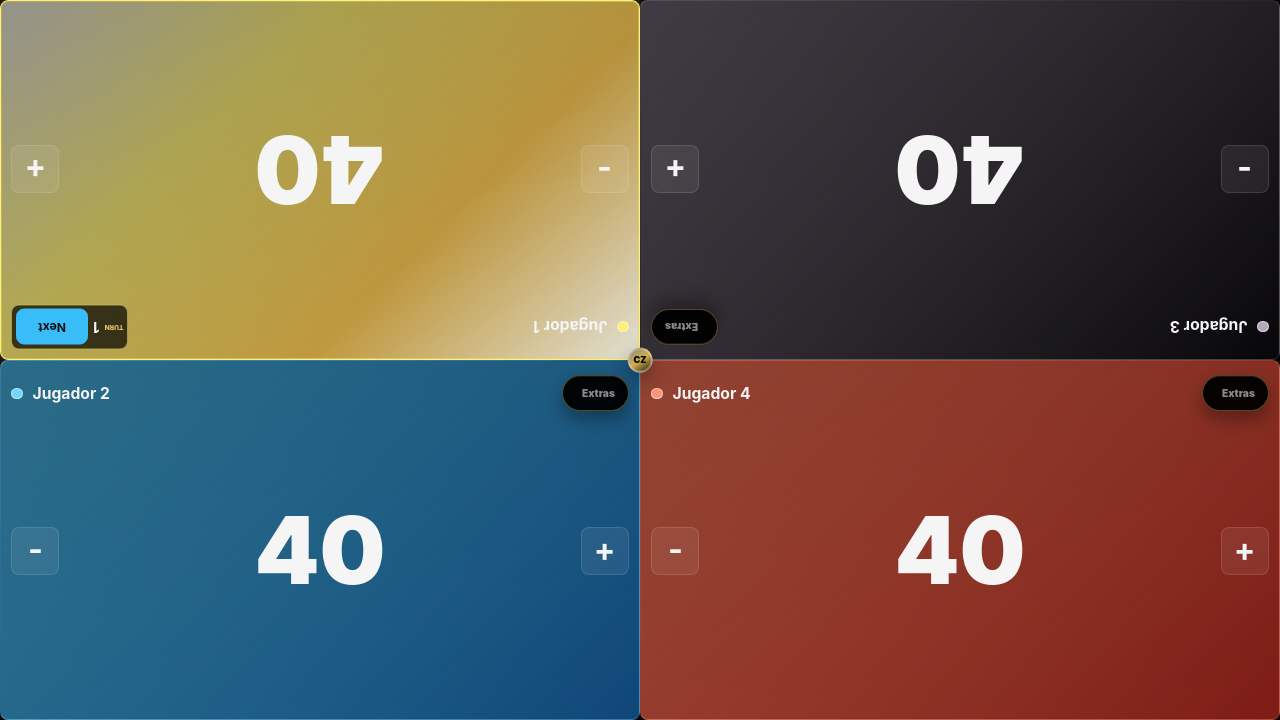
Scenario: TableAssistantRoomComponent › opens replay setup from the centered menu without closing the room
Step 1. Click the button with class "table-logo-button" → (640, 360), box 628,348 -> 652,372
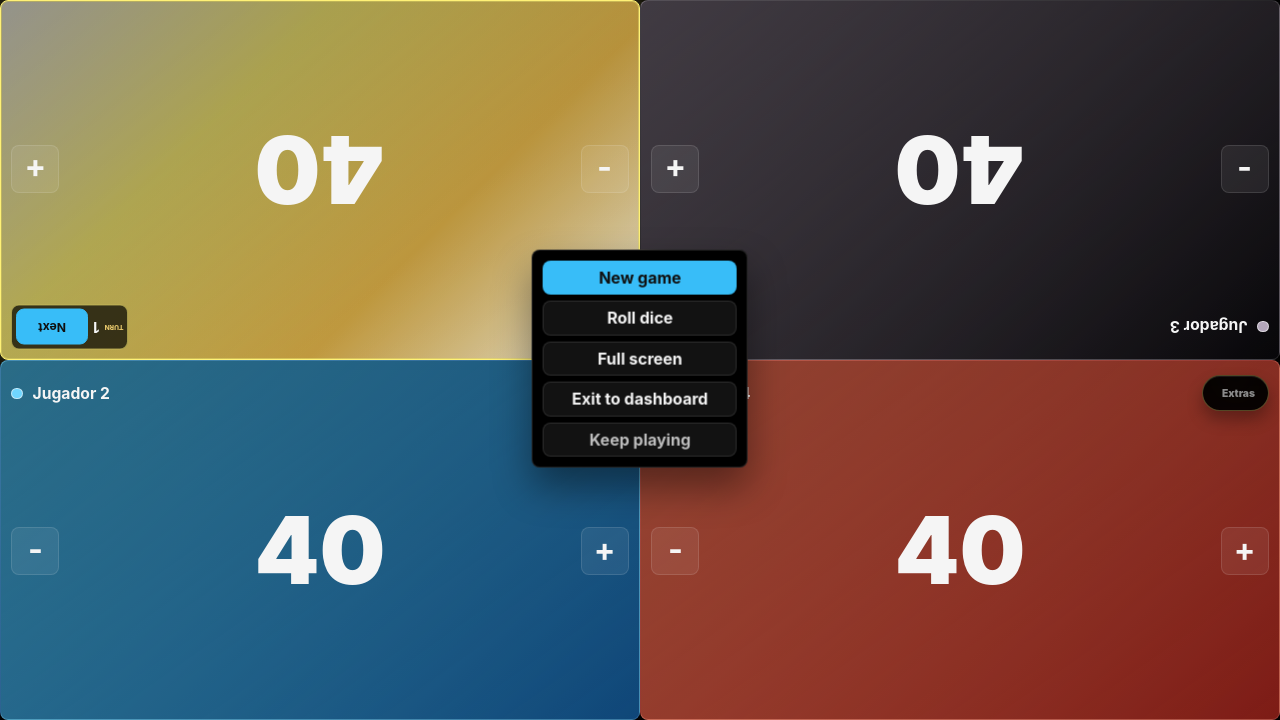
Step 2. Click the button "New game" → (640, 278), box 543,260 -> 737,295
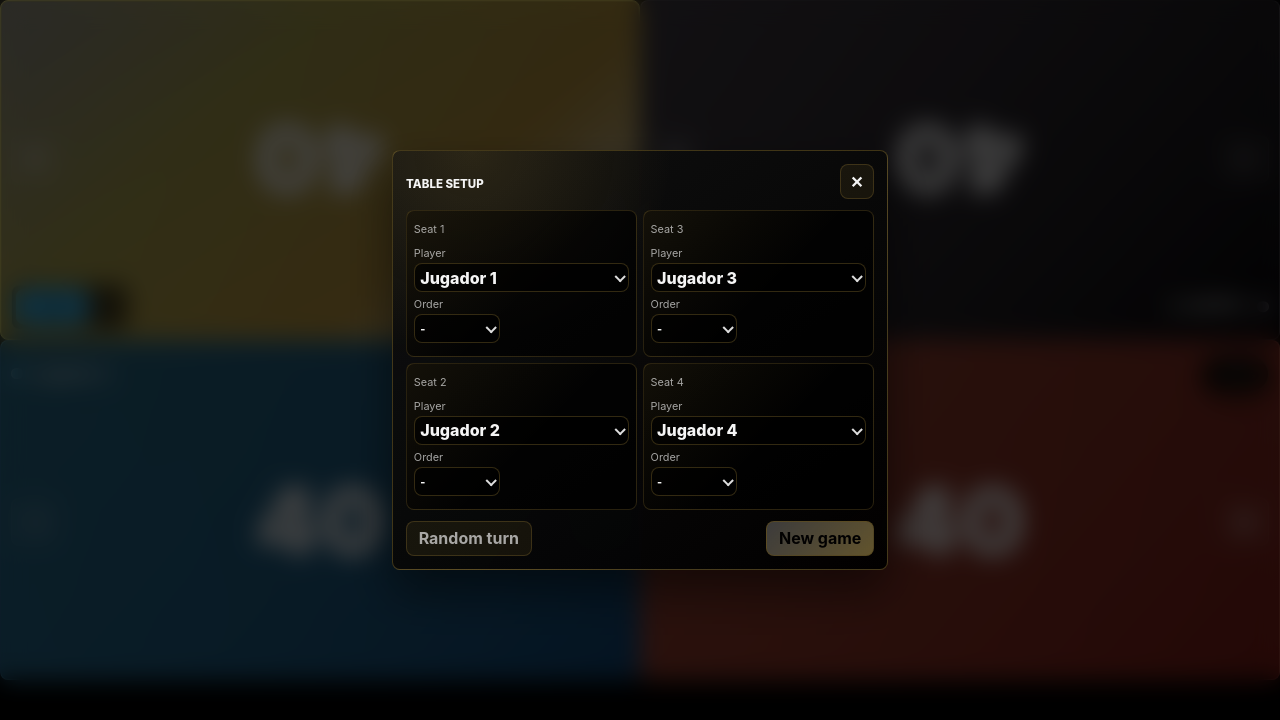
Expected: the text "Table setup" is shown, 406,177 -> 484,191
